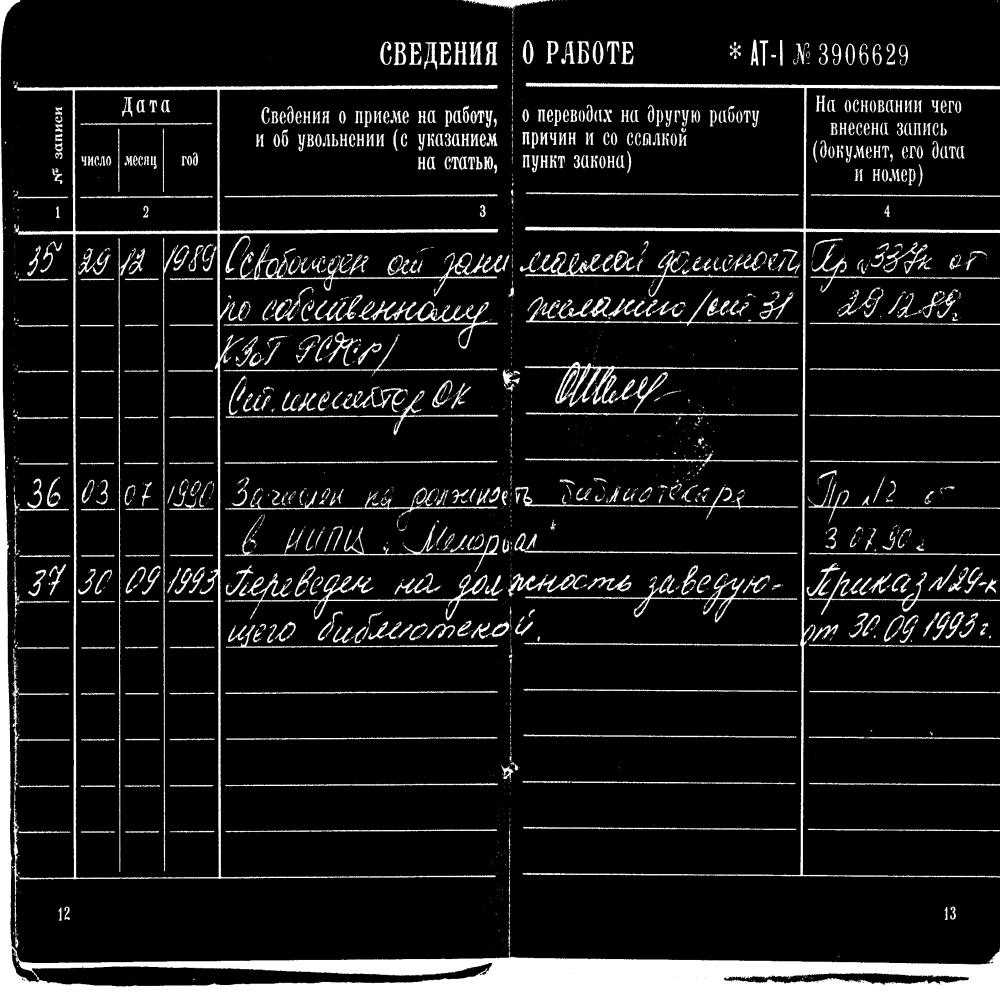rus: (218, 372, 487, 419), (18, 232, 219, 291), (22, 466, 217, 516), (803, 603, 994, 650), (22, 555, 218, 600), (808, 558, 1000, 599), (812, 459, 966, 509), (809, 234, 1000, 274), (259, 292, 496, 324), (822, 279, 984, 324), (221, 233, 371, 278), (532, 283, 688, 324), (554, 476, 748, 508), (316, 615, 538, 642), (224, 570, 378, 602), (659, 244, 806, 277), (450, 571, 633, 597), (814, 31, 918, 76), (403, 523, 544, 555), (823, 515, 926, 556), (526, 242, 649, 276), (228, 474, 343, 510), (644, 570, 772, 601), (378, 38, 501, 70), (698, 286, 795, 325), (408, 478, 530, 508), (544, 36, 638, 68), (295, 333, 381, 366), (284, 521, 367, 554), (226, 616, 302, 646), (222, 333, 283, 369), (441, 244, 510, 274), (119, 89, 179, 122), (51, 95, 71, 188), (260, 104, 333, 127), (534, 106, 614, 126), (417, 131, 498, 150), (845, 94, 924, 113), (296, 131, 386, 147), (820, 141, 889, 161), (386, 242, 429, 274), (235, 513, 267, 552), (707, 105, 760, 128), (626, 130, 689, 149), (391, 572, 437, 598), (645, 105, 701, 125), (522, 128, 578, 148), (830, 121, 890, 139), (894, 120, 949, 139), (219, 296, 258, 322), (353, 108, 410, 124), (572, 154, 628, 170), (443, 154, 494, 171), (125, 147, 158, 173), (359, 482, 395, 505), (82, 148, 116, 172), (521, 153, 566, 171), (443, 109, 491, 125), (872, 166, 915, 183), (173, 150, 204, 172), (930, 143, 966, 161), (930, 96, 962, 116), (814, 90, 839, 114), (618, 105, 642, 127), (521, 36, 536, 66), (902, 144, 924, 161), (415, 107, 436, 124), (417, 156, 435, 173), (604, 129, 620, 148), (272, 134, 291, 148), (584, 130, 598, 148), (852, 167, 867, 183), (254, 134, 269, 148), (338, 109, 348, 126), (520, 107, 530, 122), (398, 133, 409, 146)
